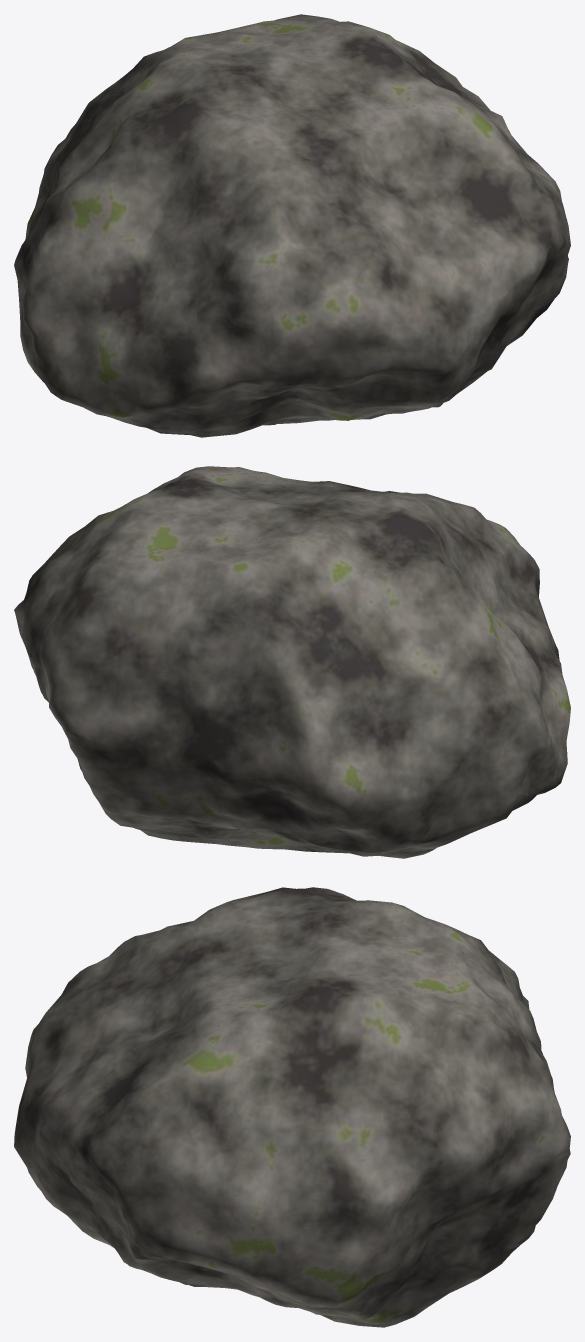
File: rock.glb
The picture shows the model from 3 angles, top to bottom: view 1: azimuth 30°, elevation 25°; view 2: azimuth 150°, elevation 25°; view 3: azimuth 270°, elevation 25°; orthographic projection. The views are drawn at different scales.
Visible parts, largest first — view 1: Rock; view 2: Rock; view 3: Rock.
Boxes of the visible parts, box(x1,y1,x2,y2) form: Rock: box(14, 14, 570, 437); Rock: box(14, 466, 570, 858); Rock: box(14, 887, 570, 1327).
Bounding box in the file's own units: 2.49 × 1.64 × 2.31.
Materials: 1 (1 with a texture image).
